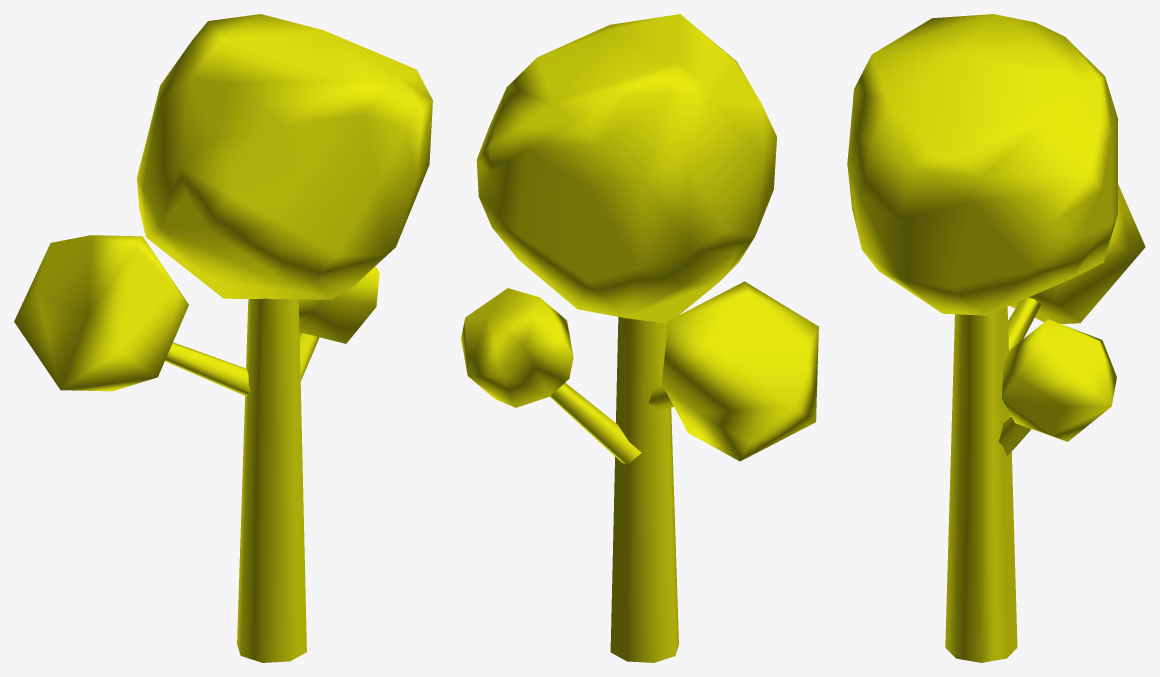
The picture shows the model from 3 angles, left to right: view 1: azimuth 30°, elevation 25°; view 2: azimuth 150°, elevation 25°; view 3: azimuth 270°, elevation 25°; orthographic projection. The views are drawn at different scales.
Parts seen in each view (by area): view 1: tree; view 2: tree; view 3: tree.
Part boxes in pixels (box(x1,y1,x2,y2)): tree: box(14, 14, 432, 662); tree: box(461, 14, 818, 662); tree: box(847, 14, 1145, 662).
Bounding box in the file's own units: 4.52 × 7.59 × 3.35.
1 material, 1 textured.
